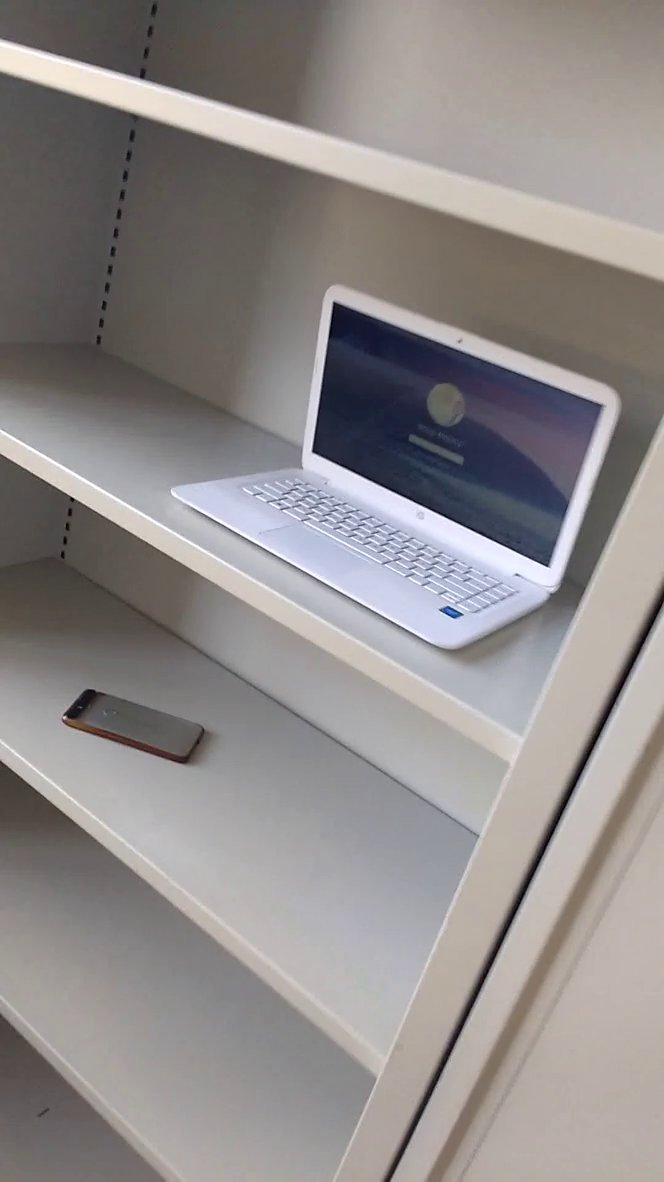laptop: (162, 272, 636, 676)
phone: (55, 680, 213, 770)
